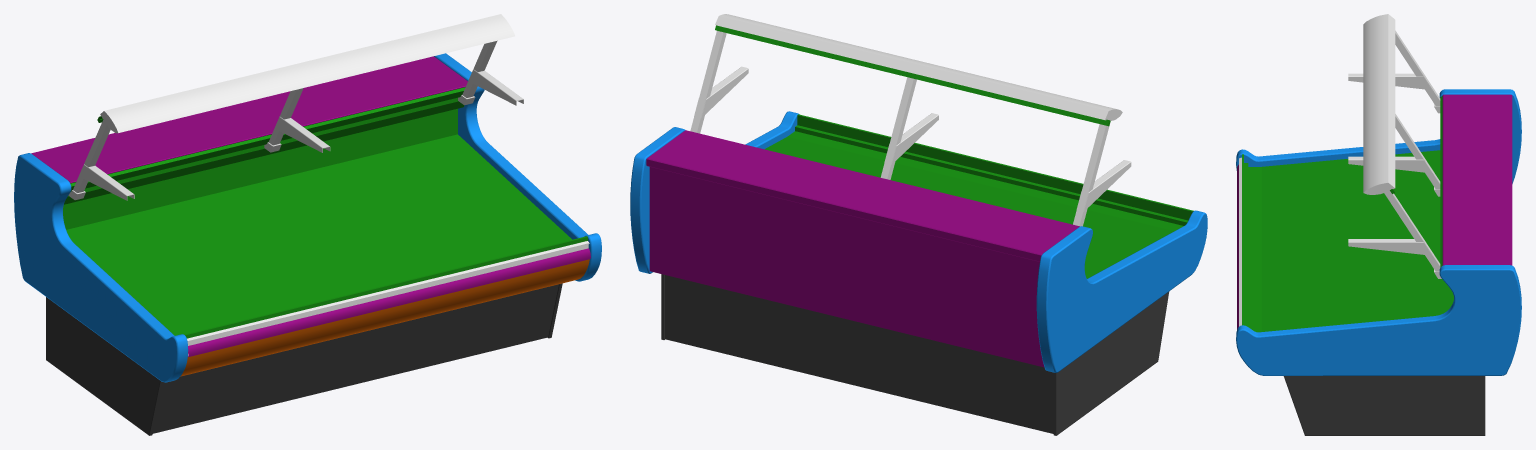
Rendered from holodVetrina.FBX.
The picture shows the model from 3 angles, left to right: view 1: azimuth 30°, elevation 25°; view 2: azimuth 150°, elevation 25°; view 3: azimuth 270°, elevation 25°; orthographic projection. The views are drawn at different scales.
Parts seen in each view (by area): view 1: holodVetrina; view 2: holodVetrina; view 3: holodVetrina.
Boxes of the visible parts, x1,y1,x2,y2 form: holodVetrina: (14,14,601,435); holodVetrina: (630,14,1207,435); holodVetrina: (1236,14,1521,435).
Bounding box in the file's own units: 1900 × 1237 × 1270.
